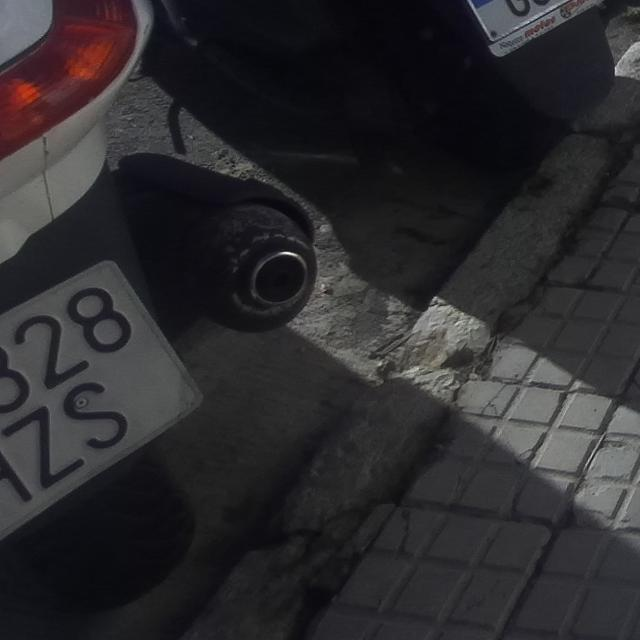calcada_quebrada: (394, 504, 416, 557), (479, 382, 513, 416)
